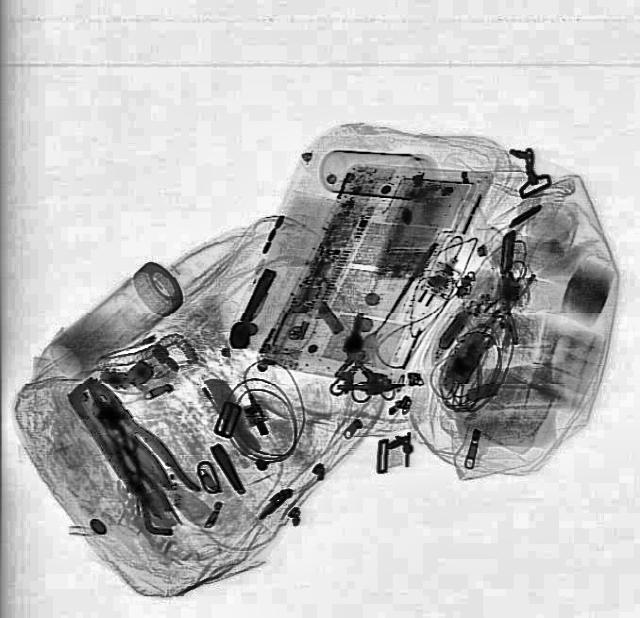Pliers: (74, 371, 200, 512)
